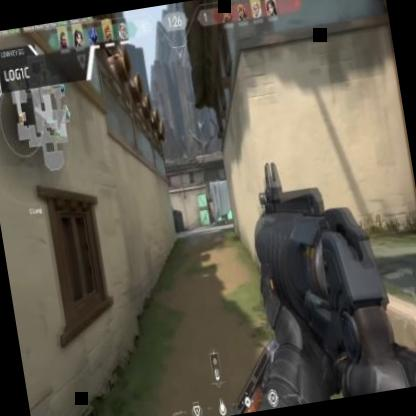enemy: (210, 207, 216, 224)
enemy_head: (211, 206, 212, 210)
